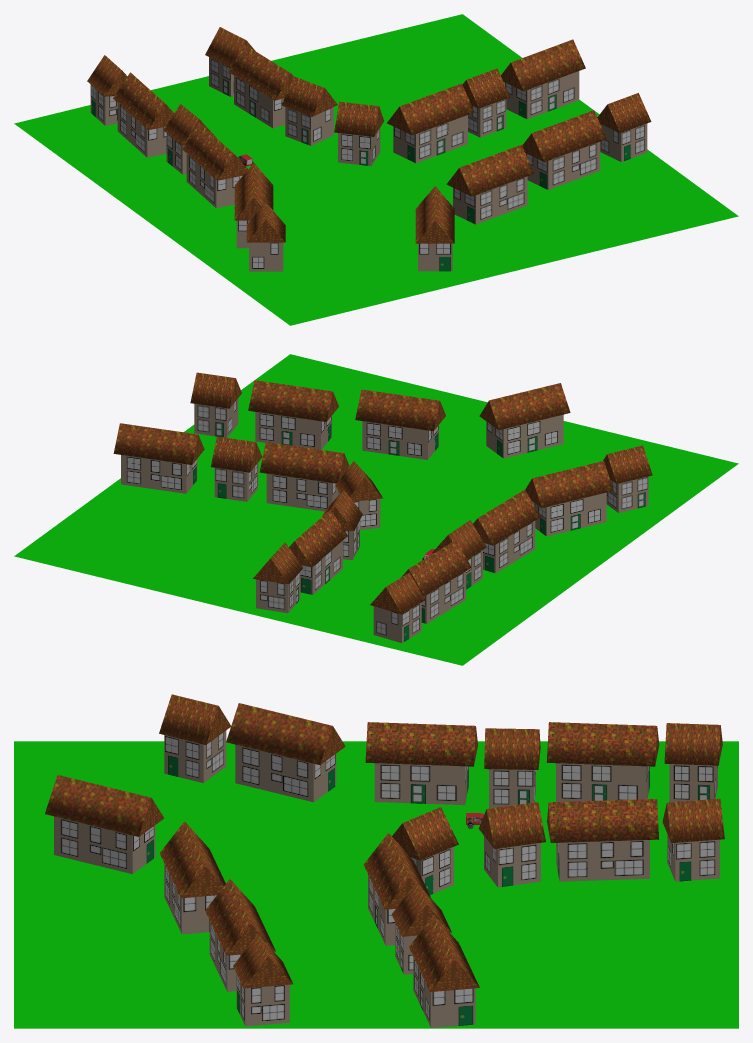
File: car.glb
The picture shows the model from 3 angles, top to bottom: view 1: azimuth 30°, elevation 25°; view 2: azimuth 150°, elevation 25°; view 3: azimuth 270°, elevation 25°; orthographic projection. The views are drawn at different scales.
Visible parts, largest first — view 1: ground, box_merged_primitive1 (×2), box_merged_primitive0 (×2), house6_primitive1, house2_primitive1, house4_primitive1, house6_primitive0, house2_primitive0, house4_primitive0, house9_primitive1, house11_primitive1, house3_primitive1 (+20 smaller); view 2: ground, box_merged_primitive1 (×2), box_merged_primitive0 (×2), house2_primitive1, house4_primitive1, house6_primitive1, house3_primitive1, house15_primitive1, house3_primitive0, house2_primitive0, house4_primitive0, house15_primitive0 (+19 smaller); view 3: ground, box_merged_primitive1 (×2), house13_primitive1, house11_primitive1, house9_primitive1, house3_primitive1, house15_primitive1, house15_primitive0, house3_primitive0, house11_primitive0, house9_primitive0, house13_primitive0 (+21 smaller).
Boxes of the visible parts, left/top/right/bottom form: ground: left=14, top=14, right=738, bottom=325; box_merged_primitive1 (×2): left=522, top=93, right=651, bottom=161; box_merged_primitive0 (×2): left=525, top=123, right=647, bottom=189; house6_primitive1: left=387, top=83, right=474, bottom=135; house2_primitive1: left=446, top=144, right=534, bottom=196; house4_primitive1: left=501, top=39, right=585, bottom=91; house6_primitive0: left=393, top=115, right=467, bottom=163; house2_primitive0: left=453, top=176, right=527, bottom=224; house4_primitive0: left=504, top=71, right=579, bottom=119; house9_primitive1: left=228, top=44, right=293, bottom=100; house11_primitive1: left=182, top=123, right=248, bottom=180; house3_primitive1: left=415, top=186, right=454, bottom=243; ground: left=14, top=354, right=738, bottom=665; box_merged_primitive1 (×2): left=190, top=372, right=338, bottom=421; box_merged_primitive0 (×2): left=194, top=398, right=331, bottom=449; house2_primitive1: left=355, top=389, right=445, bottom=431; house4_primitive1: left=113, top=423, right=204, bottom=464; house6_primitive1: left=259, top=442, right=349, bottom=483; house3_primitive1: left=479, top=383, right=570, bottom=430; house15_primitive1: left=525, top=461, right=613, bottom=508; house3_primitive0: left=486, top=414, right=563, bottom=458; house2_primitive0: left=362, top=421, right=438, bottom=459; house4_primitive0: left=121, top=455, right=197, bottom=493; house15_primitive0: left=532, top=492, right=606, bottom=536; ground: left=14, top=741, right=738, bottom=1028; box_merged_primitive1 (×2): left=205, top=879, right=292, bottom=988; house13_primitive1: left=546, top=722, right=659, bottom=766; house11_primitive1: left=365, top=722, right=477, bottom=766; house9_primitive1: left=547, top=799, right=659, bottom=842; house3_primitive1: left=45, top=775, right=164, bottom=836; house15_primitive1: left=226, top=703, right=345, bottom=764; house15_primitive0: left=235, top=744, right=336, bottom=802; house3_primitive0: left=54, top=816, right=155, bottom=873; house11_primitive0: left=374, top=763, right=468, bottom=805; house9_primitive0: left=556, top=840, right=649, bottom=881; house13_primitive0: left=556, top=763, right=649, bottom=801.
Size of the model in its own units: 15.19 by 1.71 by 16.
7 materials, 6 textured.
